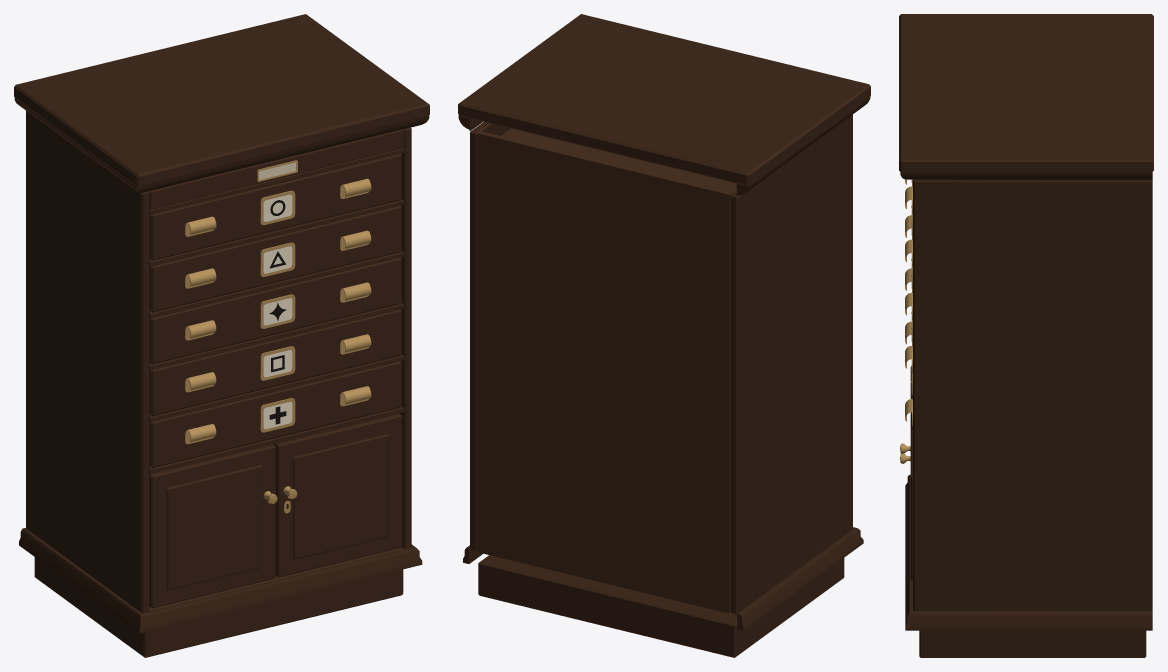
Rendered from slide_cabinet.glb.
3 views of the same model, side by side, from view 1: azimuth 30°, elevation 25°; view 2: azimuth 150°, elevation 25°; view 3: azimuth 270°, elevation 25° (orthographic). The views are drawn at different scales.
Visible parts, largest first — view 1: carcass, IA_slide_drawer_1, IA_slide_drawer_3, IA_slide_drawer_4, IA_slide_drawer_0, IA_slide_drawer_2; view 2: carcass; view 3: carcass.
Part boxes in pixels (box(x1,y1,x2,y2)): carcass: box(14, 14, 429, 657); IA_slide_drawer_1: box(149, 205, 401, 312); IA_slide_drawer_3: box(149, 309, 401, 416); IA_slide_drawer_4: box(149, 361, 401, 467); IA_slide_drawer_0: box(149, 153, 401, 260); IA_slide_drawer_2: box(149, 257, 401, 364); carcass: box(458, 14, 870, 657); carcass: box(899, 14, 1153, 657).
Size of the model in its own units: 0.652 by 1.05 by 0.478.
